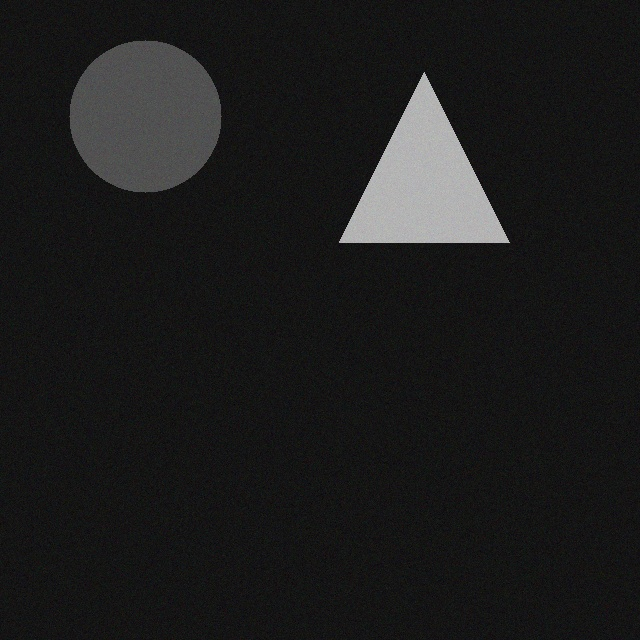circle: (54, 46, 206, 198)
triangle: (324, 78, 494, 248)
